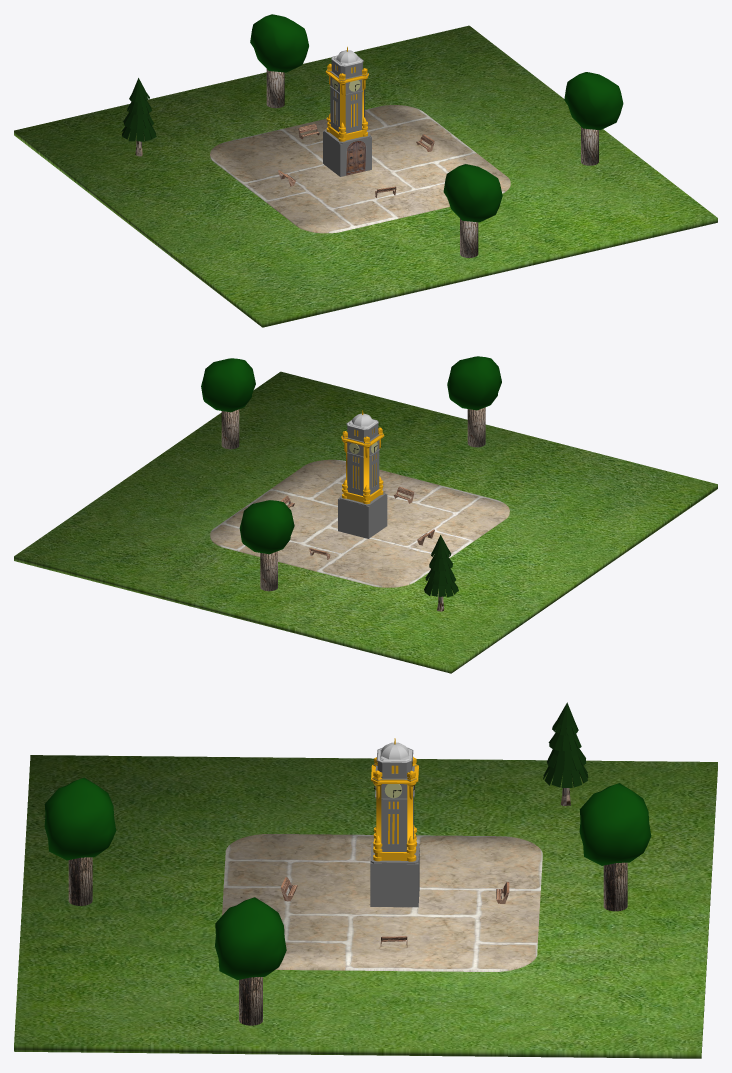
3 views of the same model, one above another, from view 1: azimuth 30°, elevation 25°; view 2: azimuth 150°, elevation 25°; view 3: azimuth 270°, elevation 25° (orthographic). The views are drawn at different scales.
Parts seen in each view (by area): view 1: Plane.001_Plane, Cylinder_Cylinder.022, Cylinder.001_Cylinder.023, Cylinder.002_Cylinder.024, Cube.001, NatureFreePack1.003, Mesh_0.121, Mesh_0.001; view 2: Plane.001_Plane, Cylinder.001_Cylinder.023, Cylinder.002_Cylinder.024, Cylinder_Cylinder.022, Cube.001, NatureFreePack1.003, Mesh_0.013_Mesh_0.002; view 3: Plane.001_Plane, Cylinder_Cylinder.022, Cylinder.001_Cylinder.023, Cylinder.002_Cylinder.024, NatureFreePack1.003, Cube.001, Mesh_0.013_Mesh_0.007_Mesh_0.013_Mesh_0.008, Mesh_0.001, Mesh_0.038_Mesh_0.036, Mesh_0.131_Mesh_0.132.
Part boxes in pixels (box(x1,y1,x2,y2)): Plane.001_Plane: box(14, 25, 717, 327); Cylinder_Cylinder.022: box(250, 14, 308, 108); Cylinder.001_Cylinder.023: box(443, 164, 502, 257); Cylinder.002_Cylinder.024: box(564, 72, 623, 165); Cube.001: box(323, 131, 371, 176); NatureFreePack1.003: box(121, 78, 156, 156); Mesh_0.121: box(345, 79, 362, 133); Mesh_0.001: box(278, 124, 434, 197); Plane.001_Plane: box(14, 371, 717, 673); Cylinder.001_Cylinder.023: box(447, 356, 501, 447); Cylinder.002_Cylinder.024: box(201, 358, 255, 449); Cylinder_Cylinder.022: box(239, 500, 294, 591); Cube.001: box(338, 493, 387, 538); NatureFreePack1.003: box(424, 535, 458, 611); Mesh_0.013_Mesh_0.002: box(347, 442, 363, 495); Plane.001_Plane: box(14, 755, 717, 1058); Cylinder_Cylinder.022: box(579, 783, 651, 911); Cylinder.001_Cylinder.023: box(44, 777, 116, 905); Cylinder.002_Cylinder.024: box(215, 897, 286, 1025); NatureFreePack1.003: box(543, 702, 588, 805); Cube.001: box(370, 844, 419, 907); Mesh_0.013_Mesh_0.007_Mesh_0.013_Mesh_0.008: box(381, 784, 407, 851); Mesh_0.001: box(280, 877, 509, 947); Mesh_0.038_Mesh_0.036: box(373, 785, 416, 853); Mesh_0.131_Mesh_0.132: box(378, 742, 412, 762).
Bounding box in the file's own units: 60 × 15.7 × 60.
14 materials, 8 textured.
